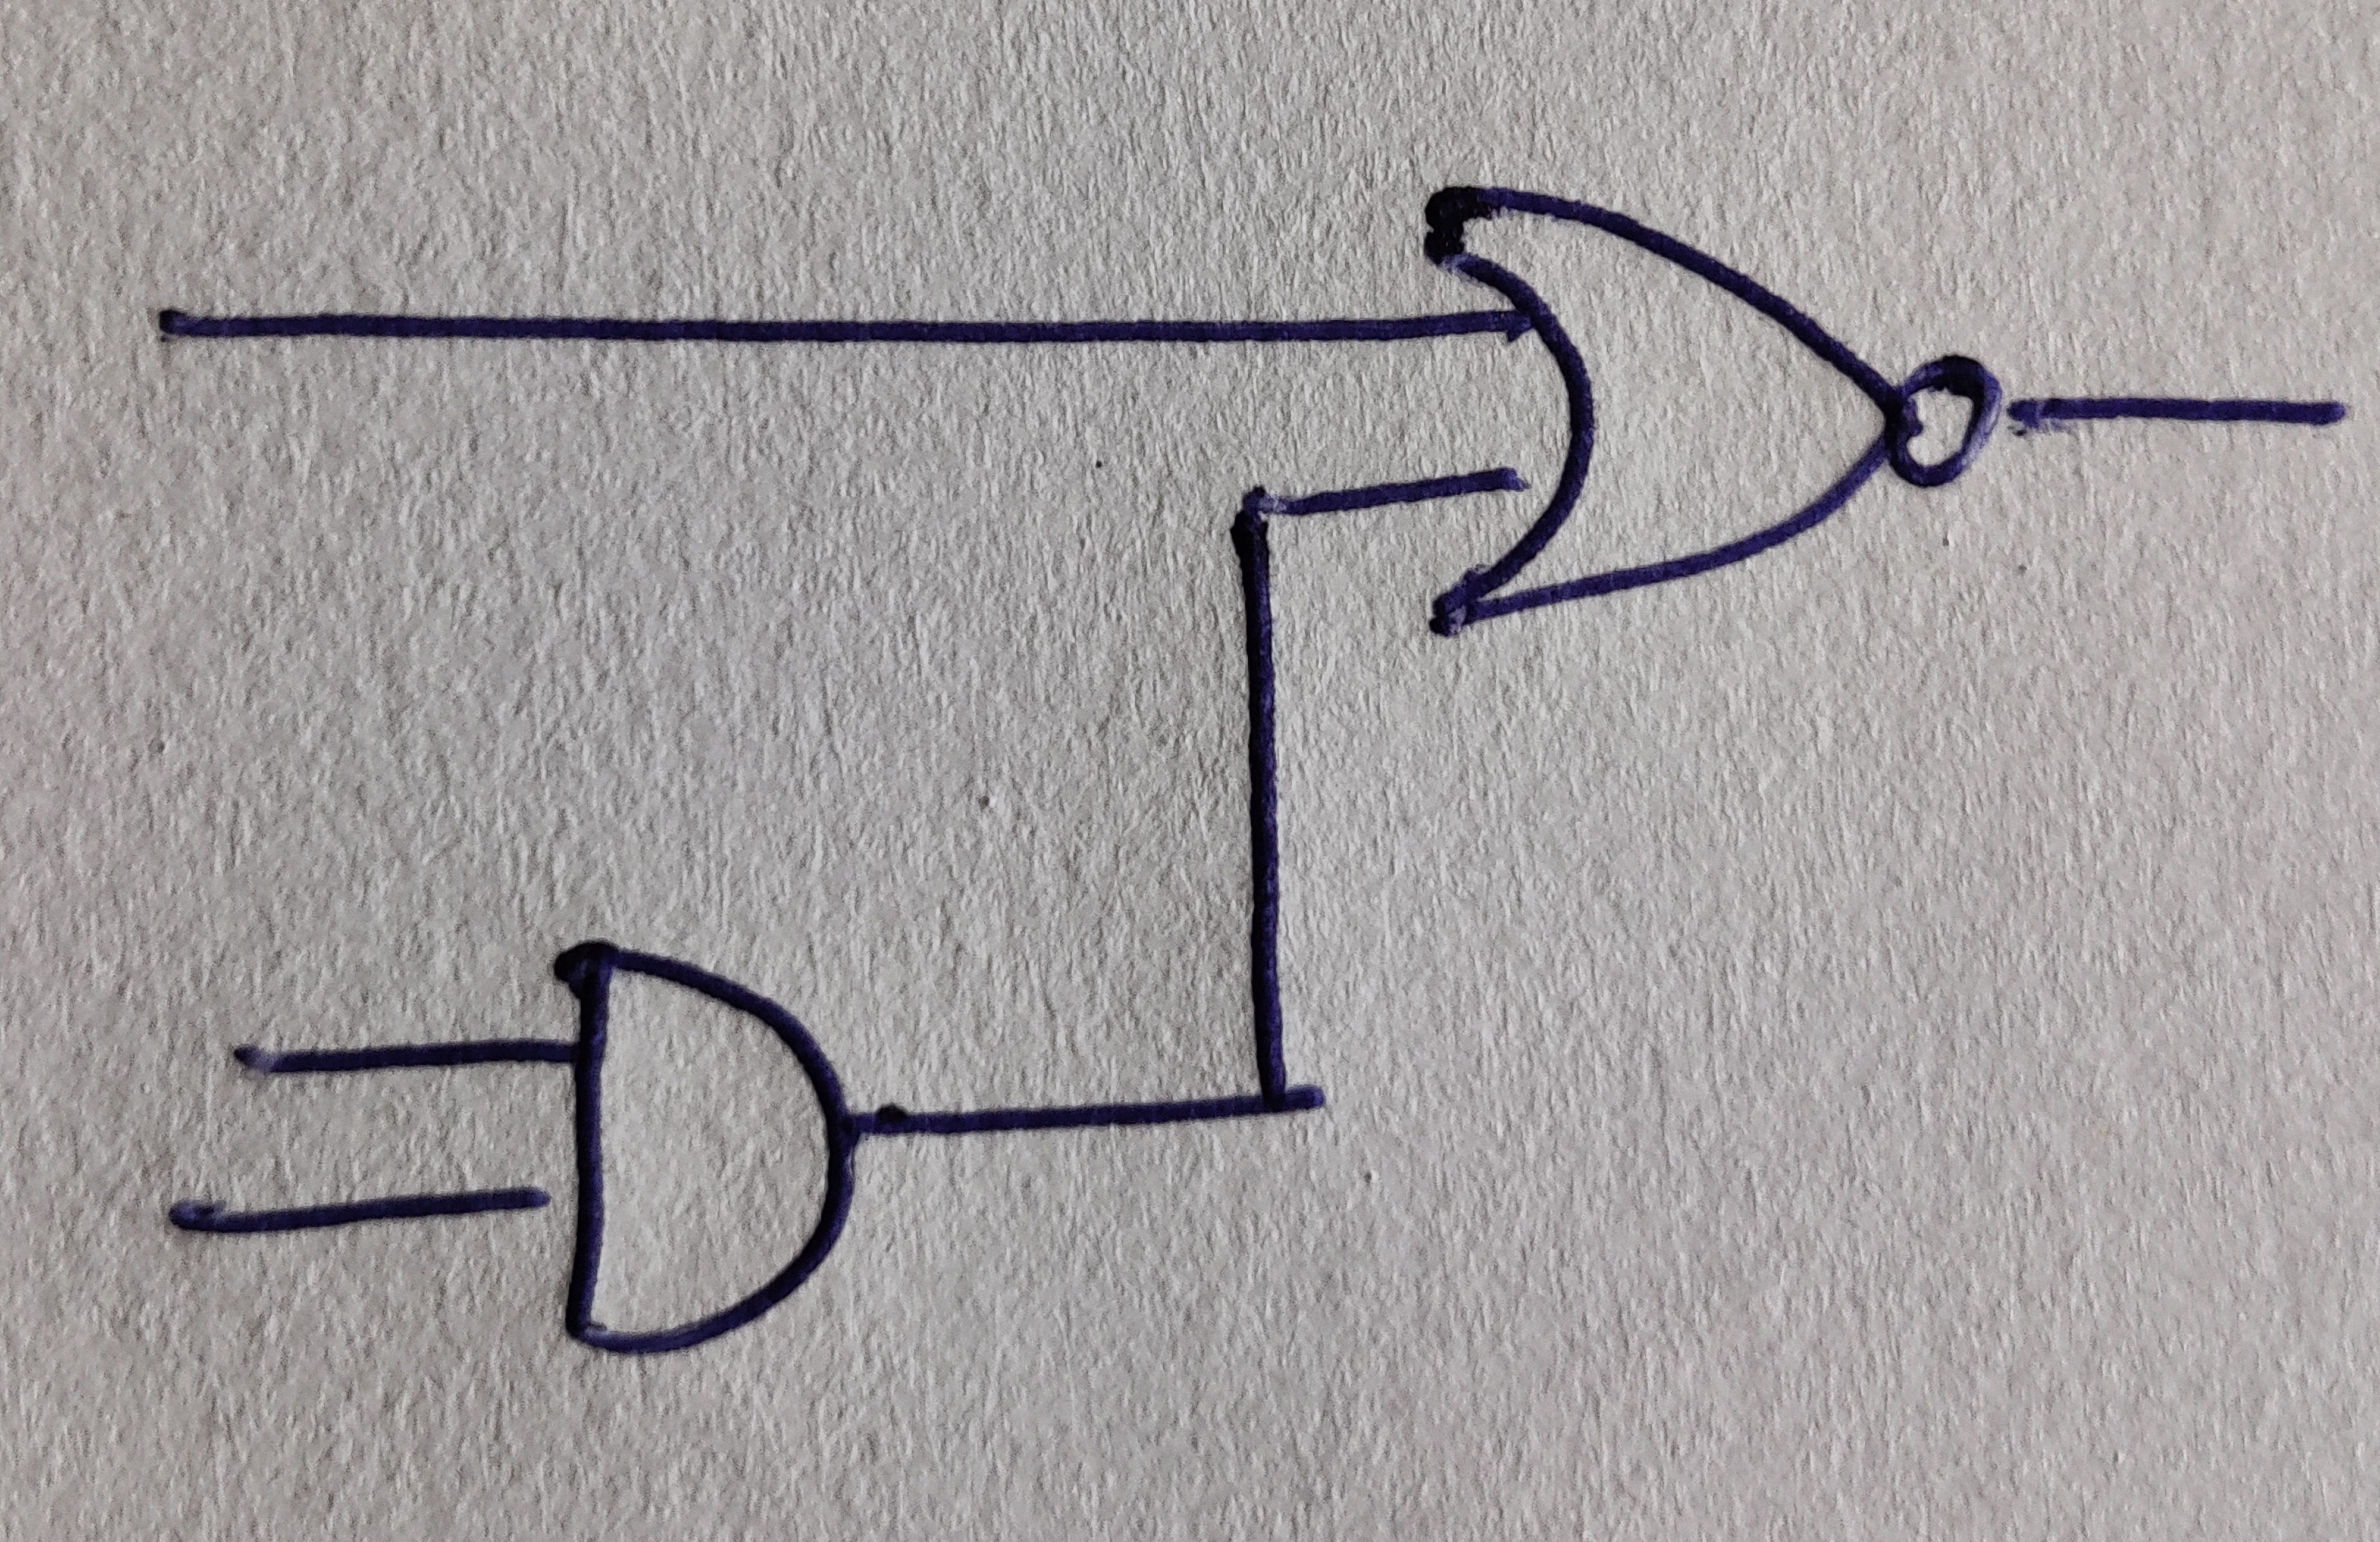and: (553, 940, 859, 1356)
not: (1887, 354, 2000, 487)
or: (1424, 187, 1901, 637)
